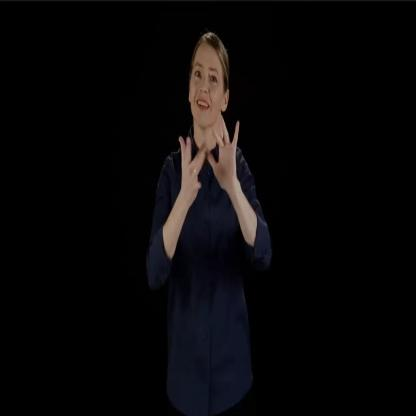Internet: (166, 102, 251, 223)
